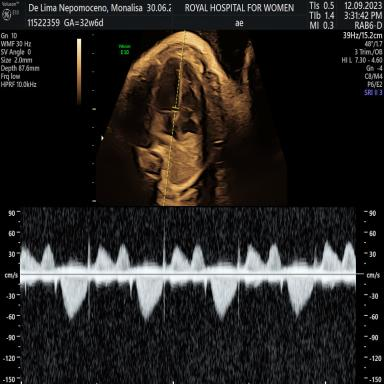Ultrasound-Waves: (27, 209, 354, 384)
